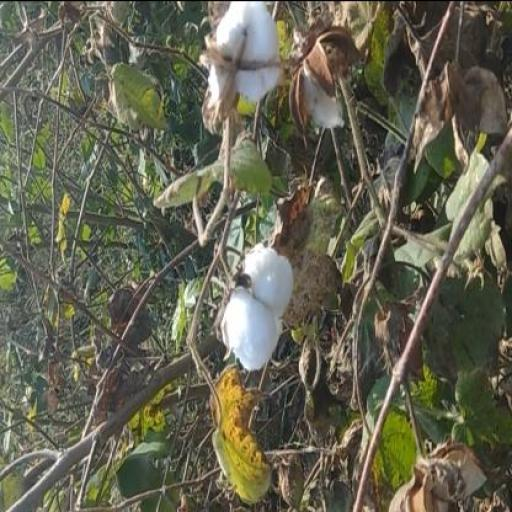cotton_ready: (215, 216, 287, 392), (202, 1, 295, 131)
